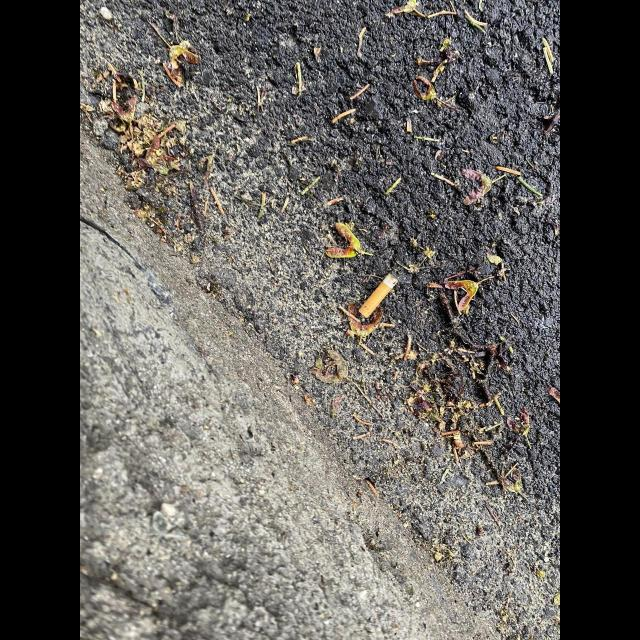cigarette: (358, 272, 398, 319)
